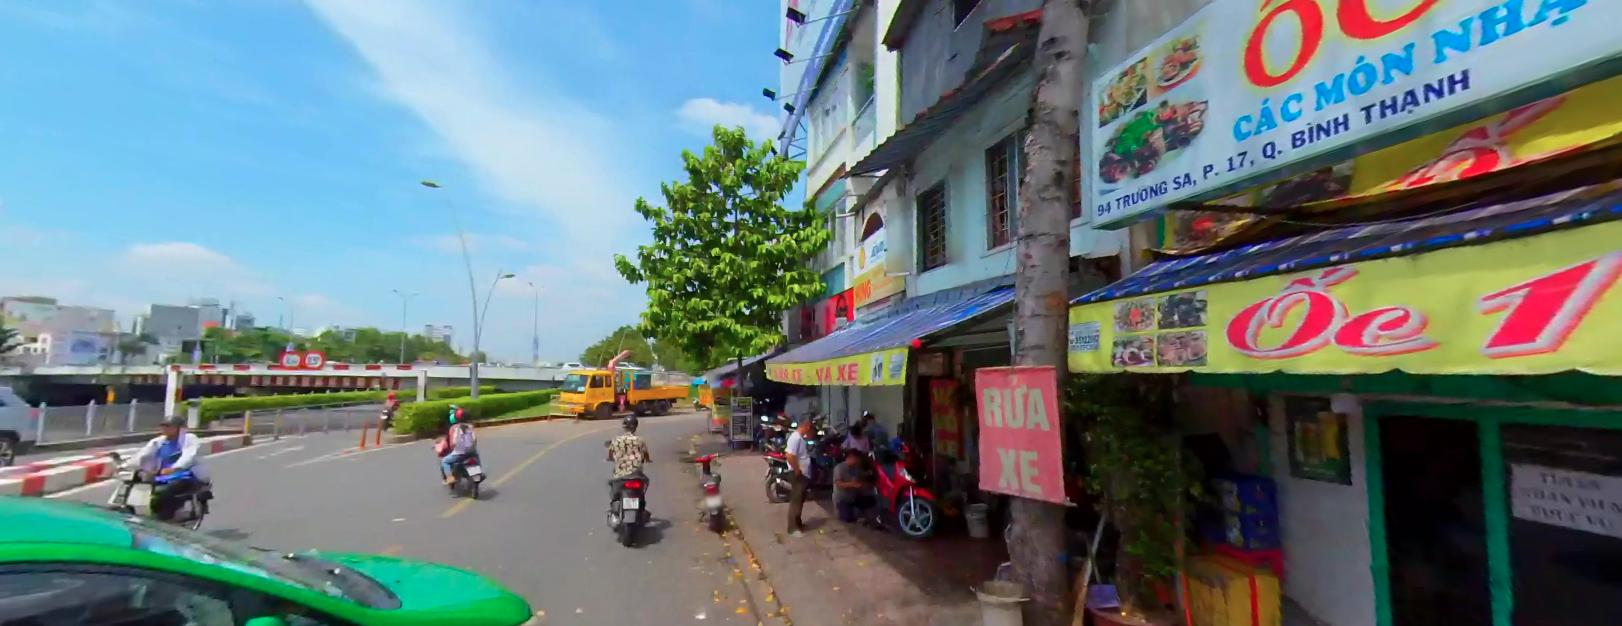Cam con lai: (303, 348, 323, 368), (281, 349, 301, 368), (281, 348, 302, 366), (304, 349, 323, 367)
